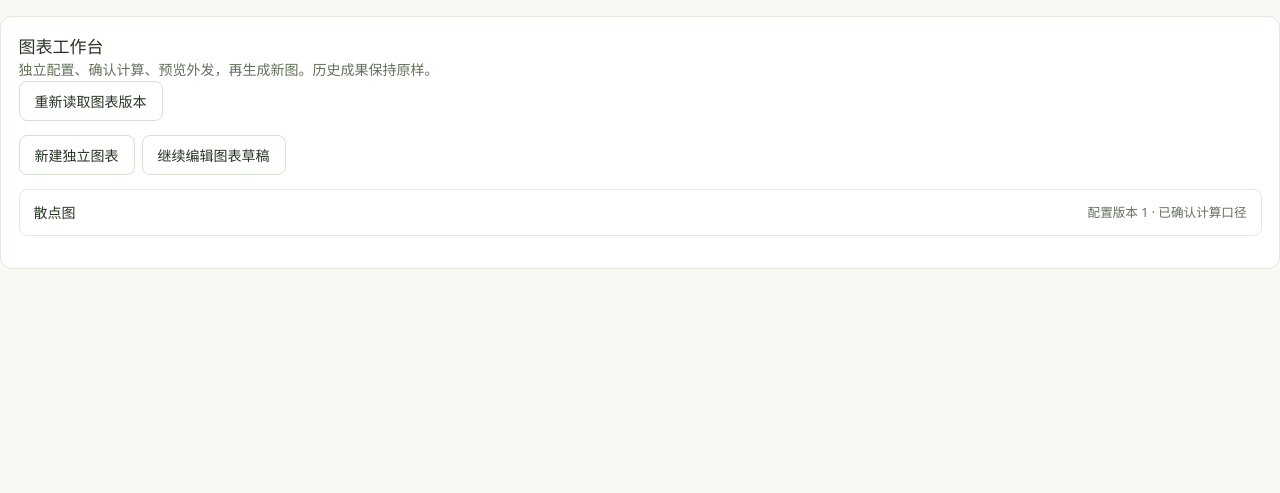
Test: task detail keeps the chosen configuration version after a newer configuration arrives
Step 1. Click the button with aria-label "打开图表 散点图" → (54, 212), box [18,189,1262,236]
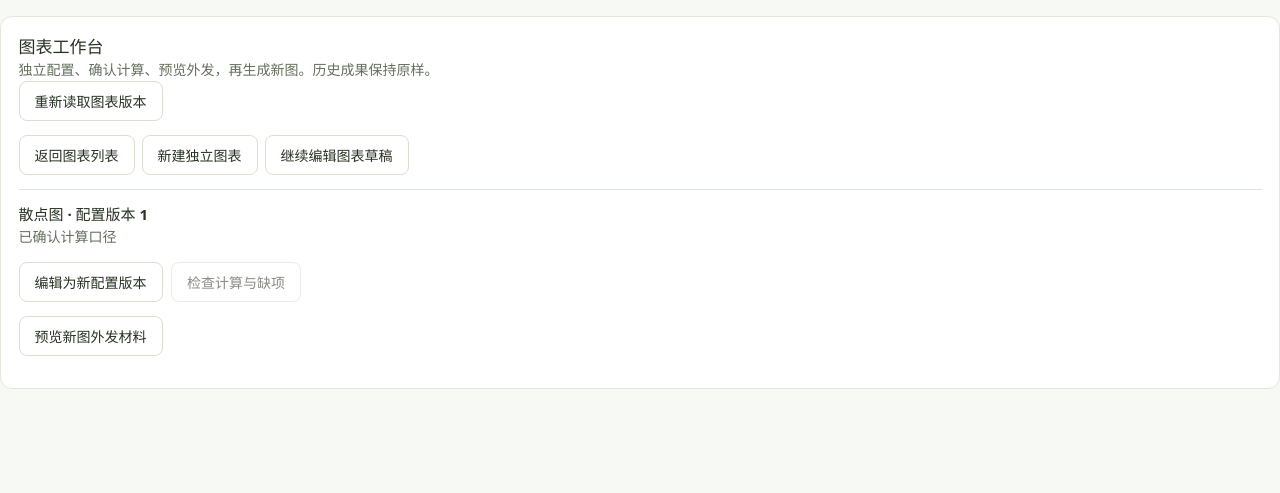
Step 2. Click the button "重新读取图表版本" → (90, 101), box [18,81,162,121]
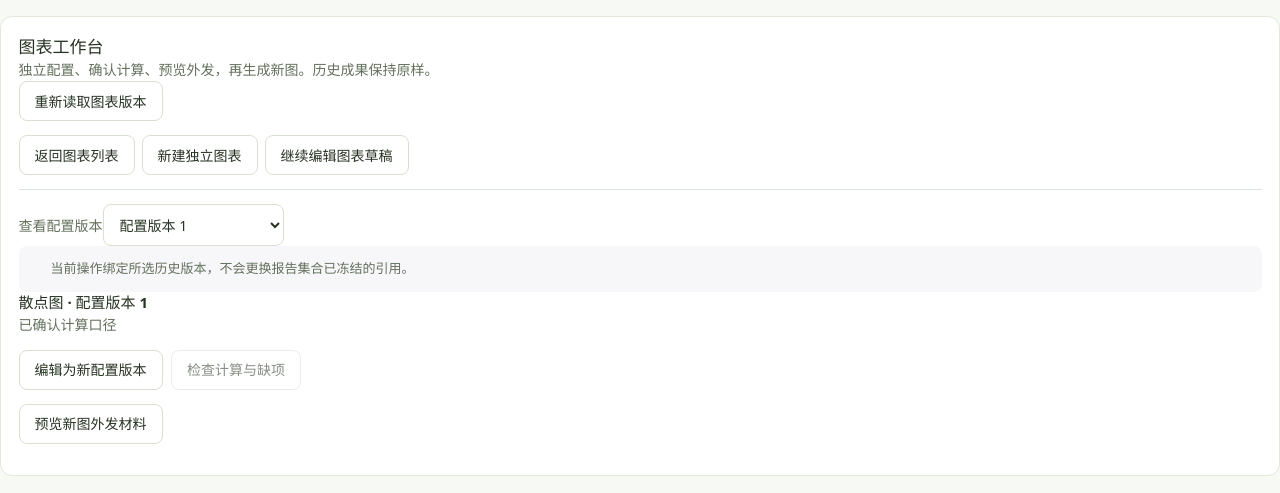
Check: the text "当前操作绑定所选历史版本，不会更换报告集合已冻结的引用。" is shown, box [18,246,1262,292]
Check: the dropdown labelled "查看配置版本" shows "配置版本 1", box [102,204,284,246]
Step 3. Click the button "返回图表列表" → (76, 155), box [18,135,134,175]
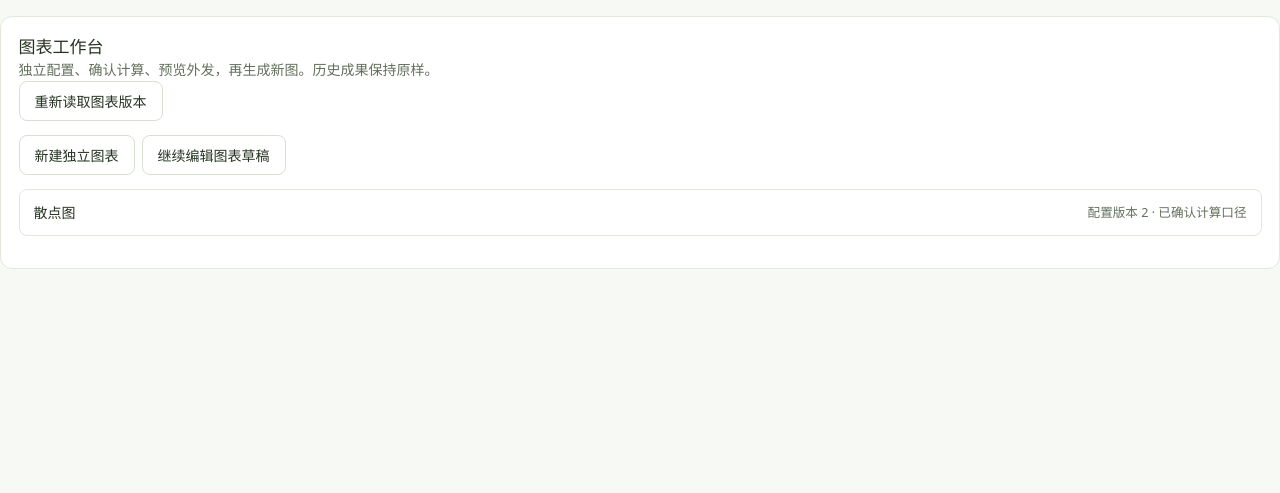
Step 4. Click the button with aria-label "打开图表 散点图" → (54, 212), box [18,189,1262,236]
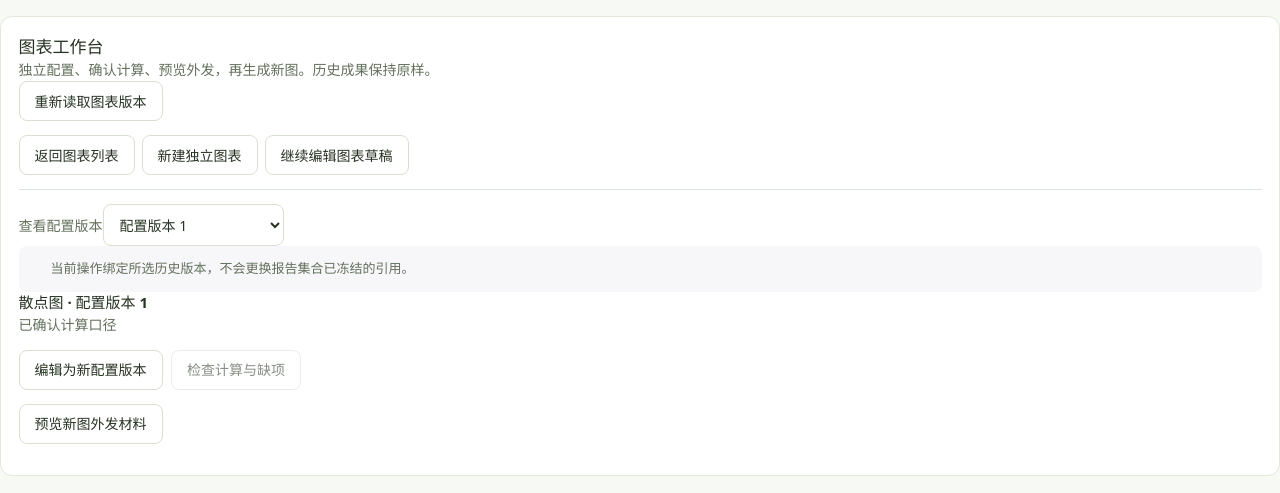
Check: the dropdown labelled "查看配置版本" shows "配置版本 1", box [102,204,284,246]
